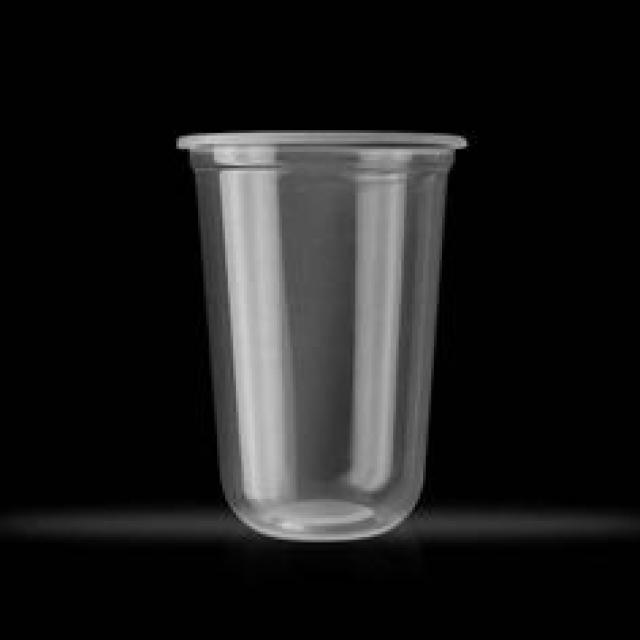bottle: (178, 136, 465, 541)
